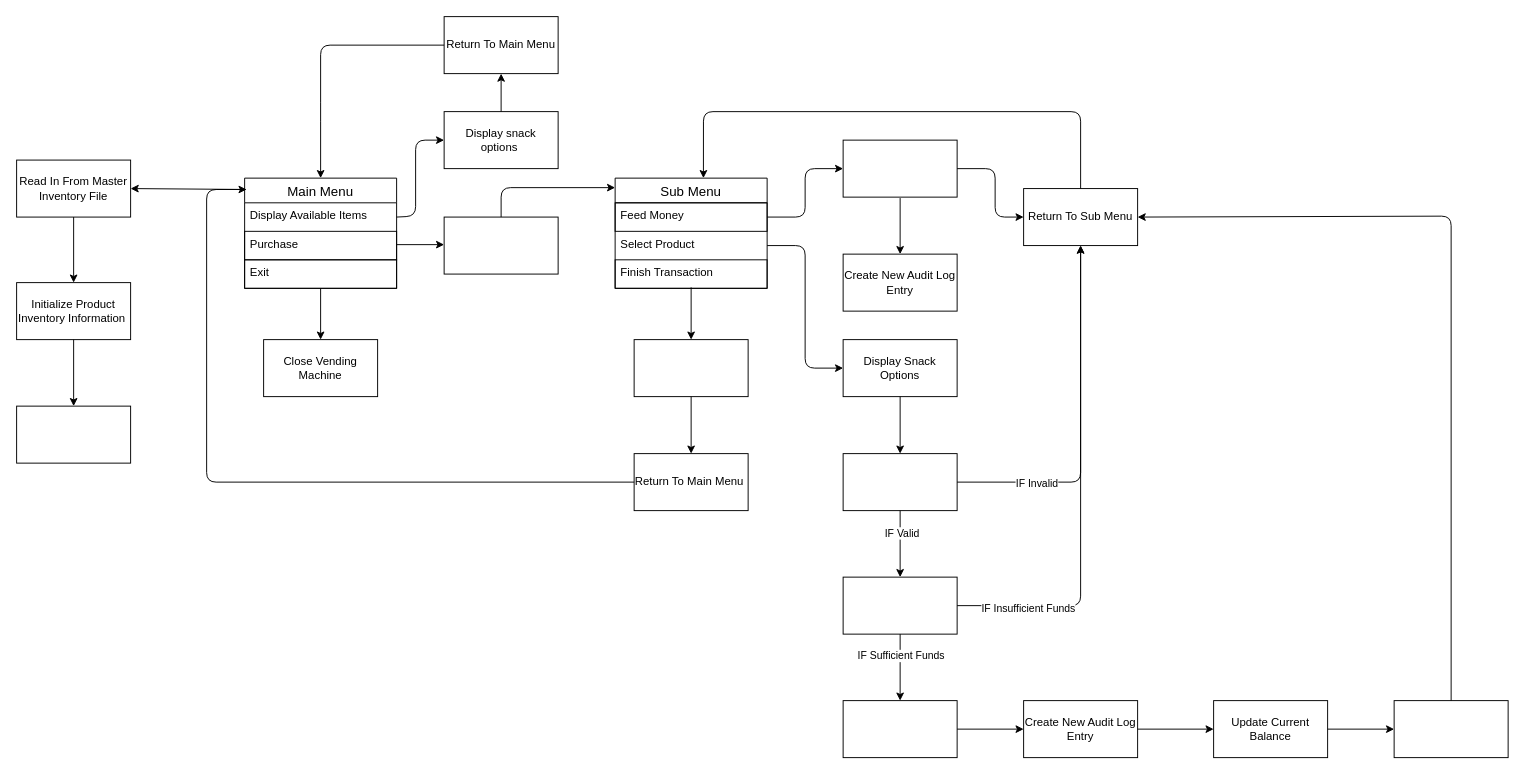
The diagram is 1525 pixels wide and 774 high, and some of its shapes have lost their labels. The centre of each missing label's shape, as x and y in pixels:
Check That Current Balance Can Cover The Product Cost: (899,605)
Dispense Item: (899,729)
Display Sub Menu: (500,245)
Return The User's Change: (690,368)
Take User Input And Check Validity: (899,482)
Take User Input And Update Current Balance: (899,168)
Update Inventory Quantities: (73,434)
Update Inventory Quantity: (1450,729)
